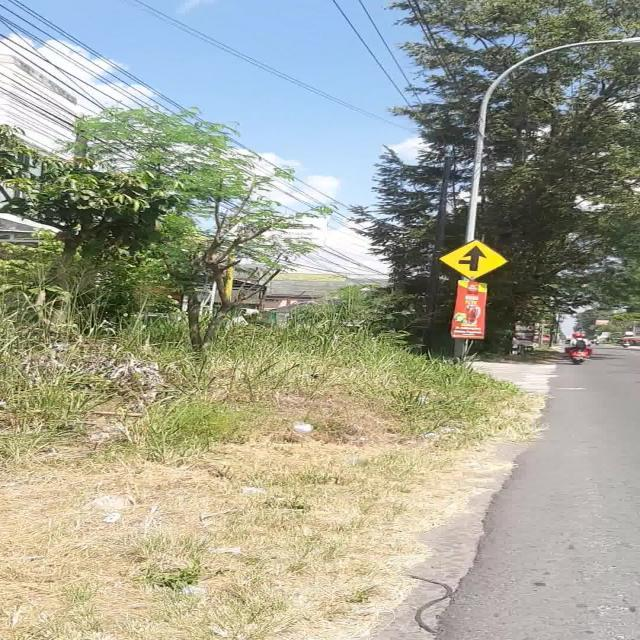Persimpangan 3 Prioritas Kiri: (436, 240, 509, 280)
